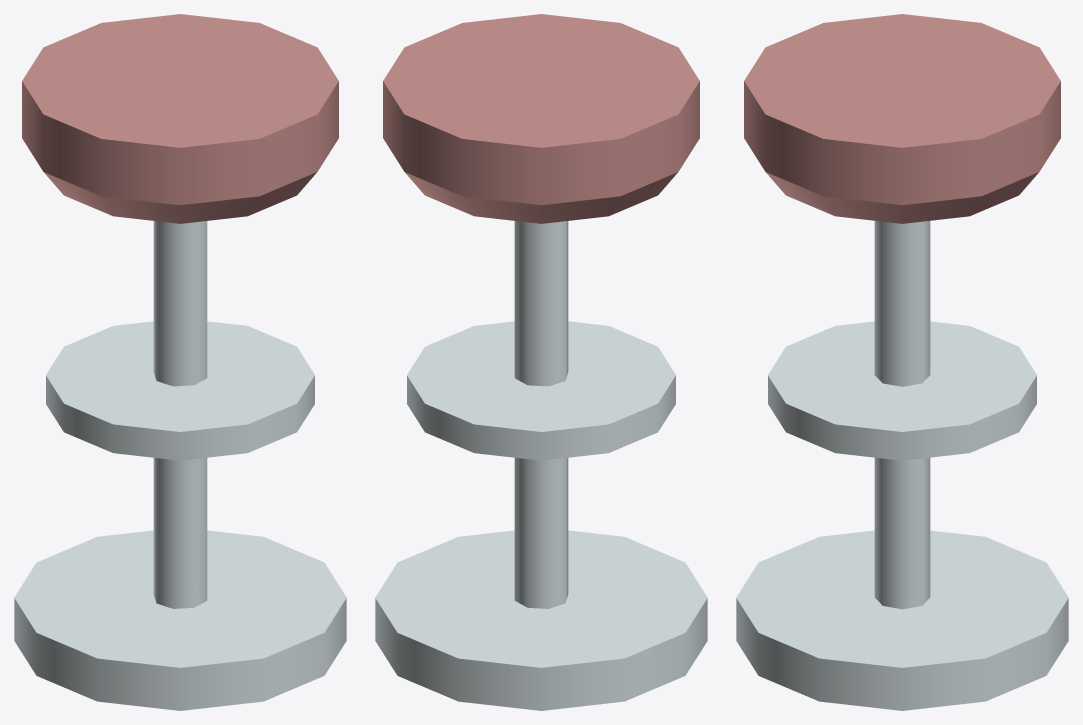
File: stoolLeather.glb
3 renders of one model, left to right at view 1: azimuth 30°, elevation 25°; view 2: azimuth 150°, elevation 25°; view 3: azimuth 270°, elevation 25°, orthographic.
Parts seen in each view (by area): view 1: stoolLeather; view 2: stoolLeather; view 3: stoolLeather.
Part boxes in pixels (x1,y1,x2,y2): stoolLeather: (14, 14, 346, 710); stoolLeather: (375, 14, 707, 710); stoolLeather: (736, 14, 1068, 710).
Bounding box in the file's own units: 0.21 × 0.39 × 0.21.
